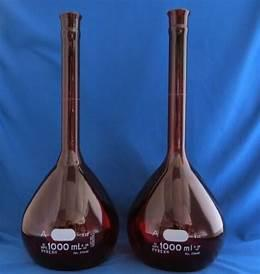Volumetric flask: (128, 6, 233, 265), (23, 2, 118, 269)
